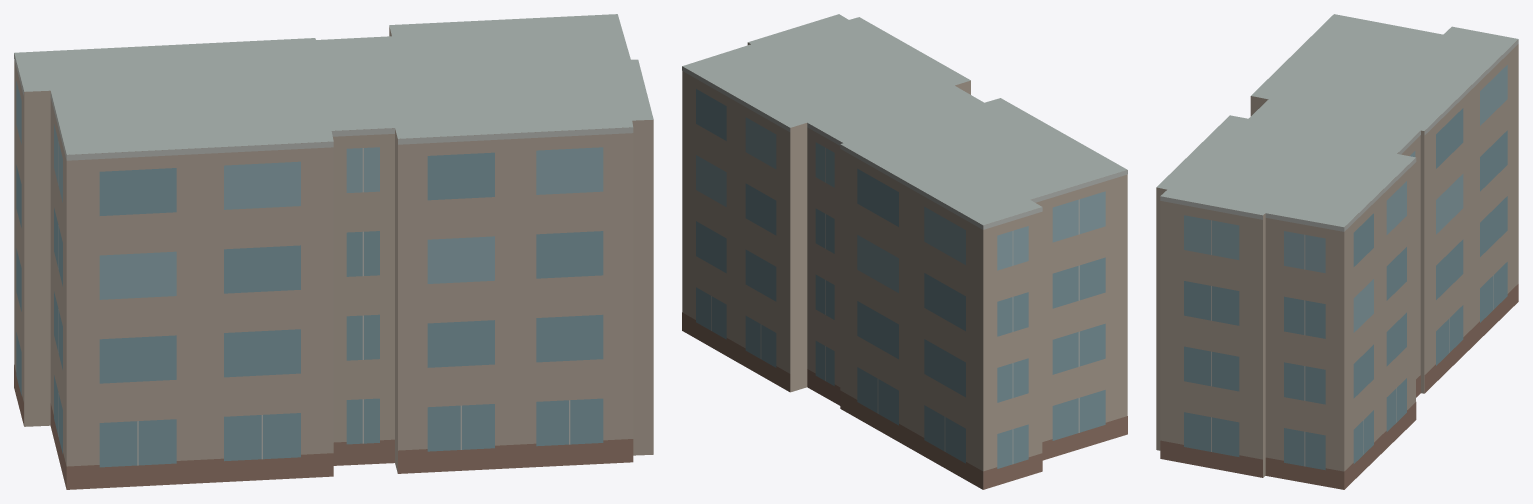
The model's file is survey-upis-32531933.glb.
The picture shows the model from 3 angles, left to right: view 1: azimuth 30°, elevation 25°; view 2: azimuth 150°, elevation 25°; view 3: azimuth 270°, elevation 25°; orthographic projection. The views are drawn at different scales.
Parts seen in each view (by area): view 1: survey-upis-32531933.tmp; view 2: survey-upis-32531933.tmp; view 3: survey-upis-32531933.tmp.
Part boxes in pixels (x1,y1,x2,y2): survey-upis-32531933.tmp: [14, 14, 653, 489]; survey-upis-32531933.tmp: [682, 14, 1127, 489]; survey-upis-32531933.tmp: [1156, 14, 1518, 489].
Size of the model in its own units: 24.31 by 13.95 by 17.46.
